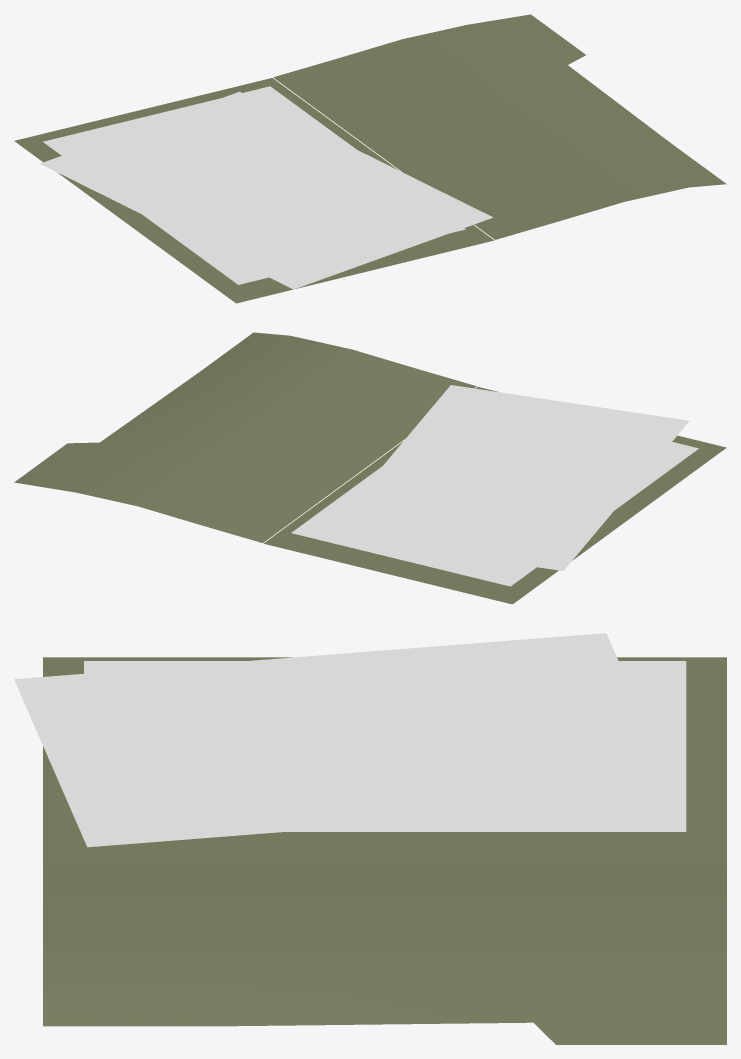
Rendered from folder.FBX.
The picture shows the model from 3 angles, top to bottom: view 1: azimuth 30°, elevation 25°; view 2: azimuth 150°, elevation 25°; view 3: azimuth 270°, elevation 25°; orthographic projection. The views are drawn at different scales.
Visible parts, largest first — view 1: Plane002, Plane004, Plane001, Plane003; view 2: Plane002, Plane004, Plane001, Plane003; view 3: Plane002, Plane004, Plane001, Plane003.
Boxes of the visible parts, left/top/right/bottom form: Plane002: left=273, top=14, right=726, bottom=239; Plane004: left=40, top=91, right=493, bottom=289; Plane001: left=14, top=78, right=494, bottom=303; Plane003: left=43, top=86, right=465, bottom=284; Plane002: left=14, top=332, right=476, bottom=542; Plane004: left=325, top=385, right=689, bottom=570; Plane001: left=264, top=387, right=726, bottom=604; Plane003: left=291, top=442, right=698, bottom=586; Plane002: left=43, top=851, right=726, bottom=1044; Plane004: left=14, top=633, right=679, bottom=847; Plane001: left=43, top=657, right=726, bottom=851; Plane003: left=84, top=661, right=686, bottom=831.
Size of the model in its own units: 81.99 by 1.41 by 62.03.
